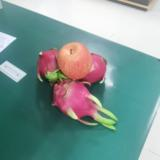apple: (57, 42, 92, 79)
pitaya: (55, 82, 105, 126), (36, 49, 70, 86), (78, 54, 108, 85)
